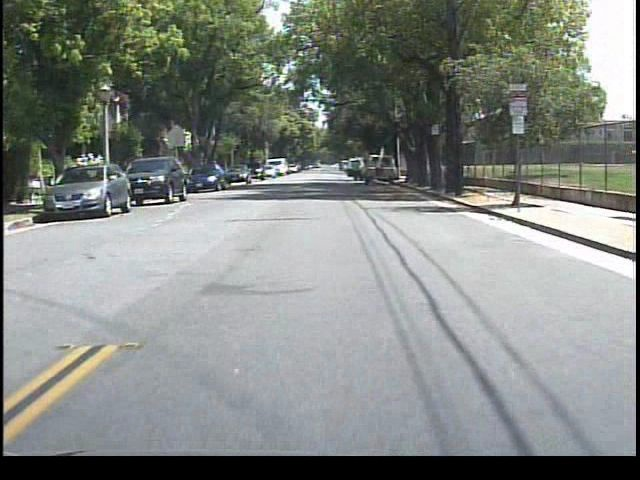person: (347, 158, 362, 184)
